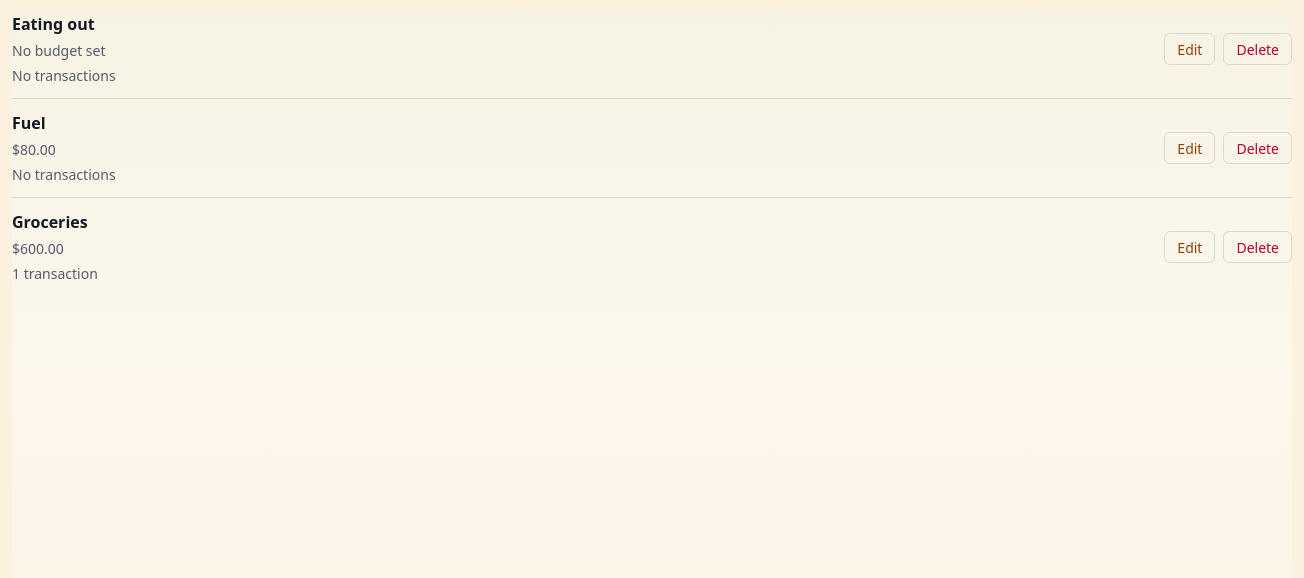
Test: deleting a category › uses the singular when one transaction blocks the delete
What coordinates should you click on to do the following:
click the button "Delete" in the row of "$600.00"
I would click on:
 (1258, 247)
Its box is [1223,231,1292,263].
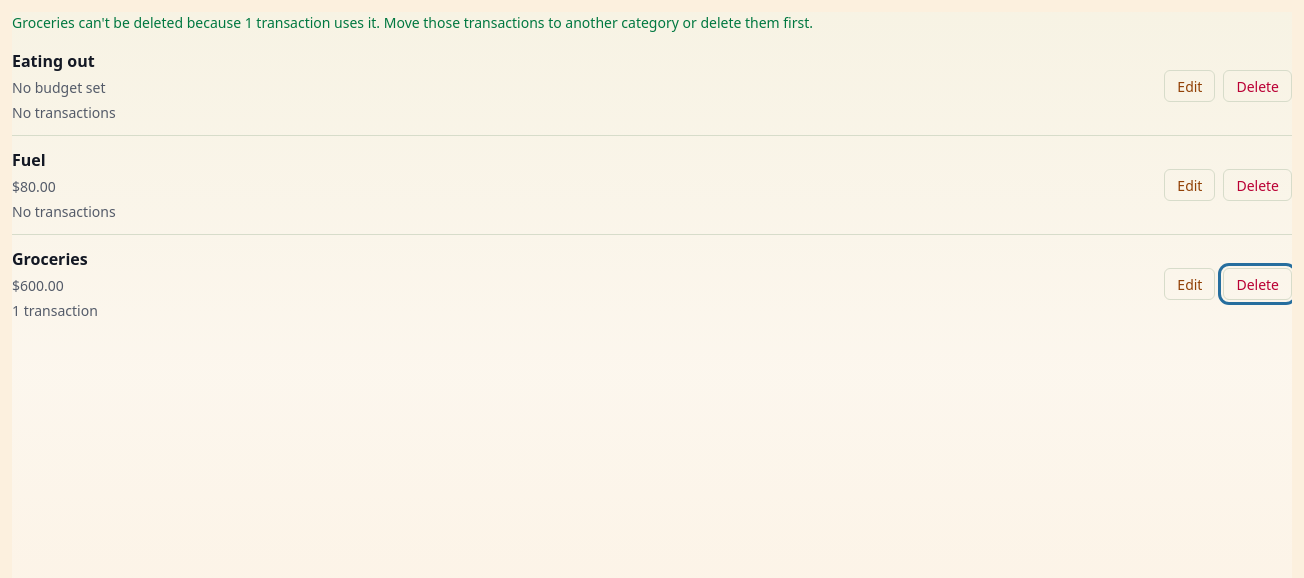
expect the message shows "Groceries can't be deleted because 1 transaction uses it.": met, box [12,13,813,32]
